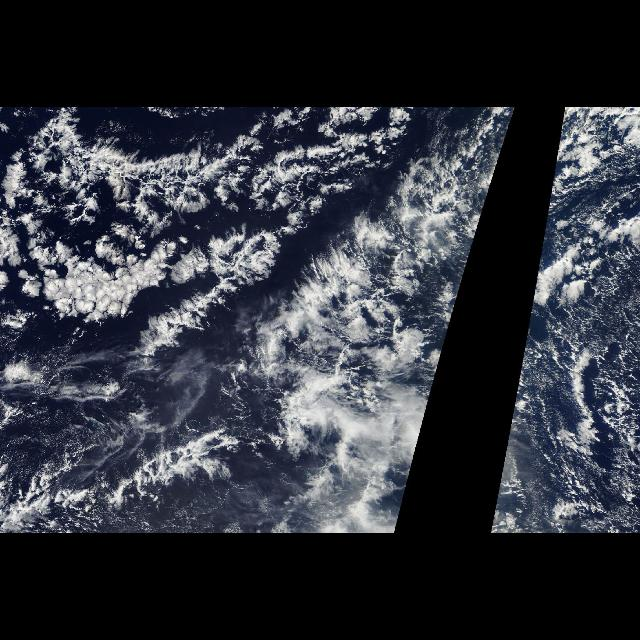Fish: (9, 112, 514, 530)
Flower: (9, 113, 351, 363)
Sugar: (503, 152, 632, 502)
